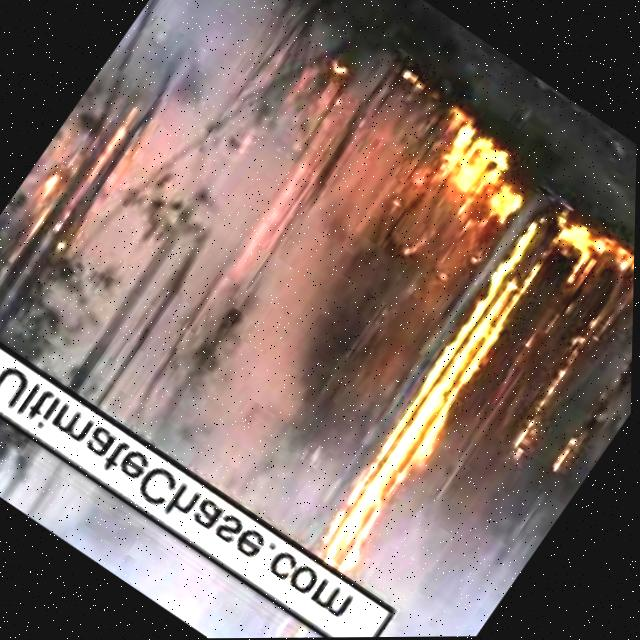Fire: (314, 201, 612, 589), (0, 81, 161, 287), (397, 106, 542, 245), (290, 50, 363, 128), (599, 249, 636, 338)
